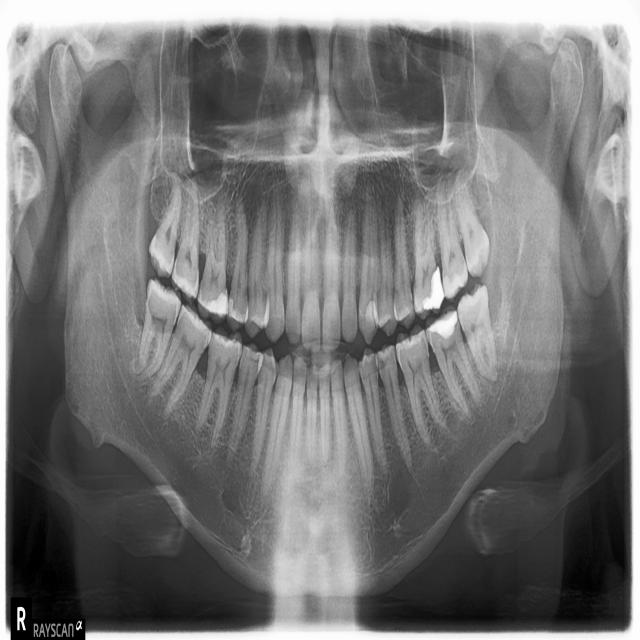mandibula: (47, 35, 586, 598)
